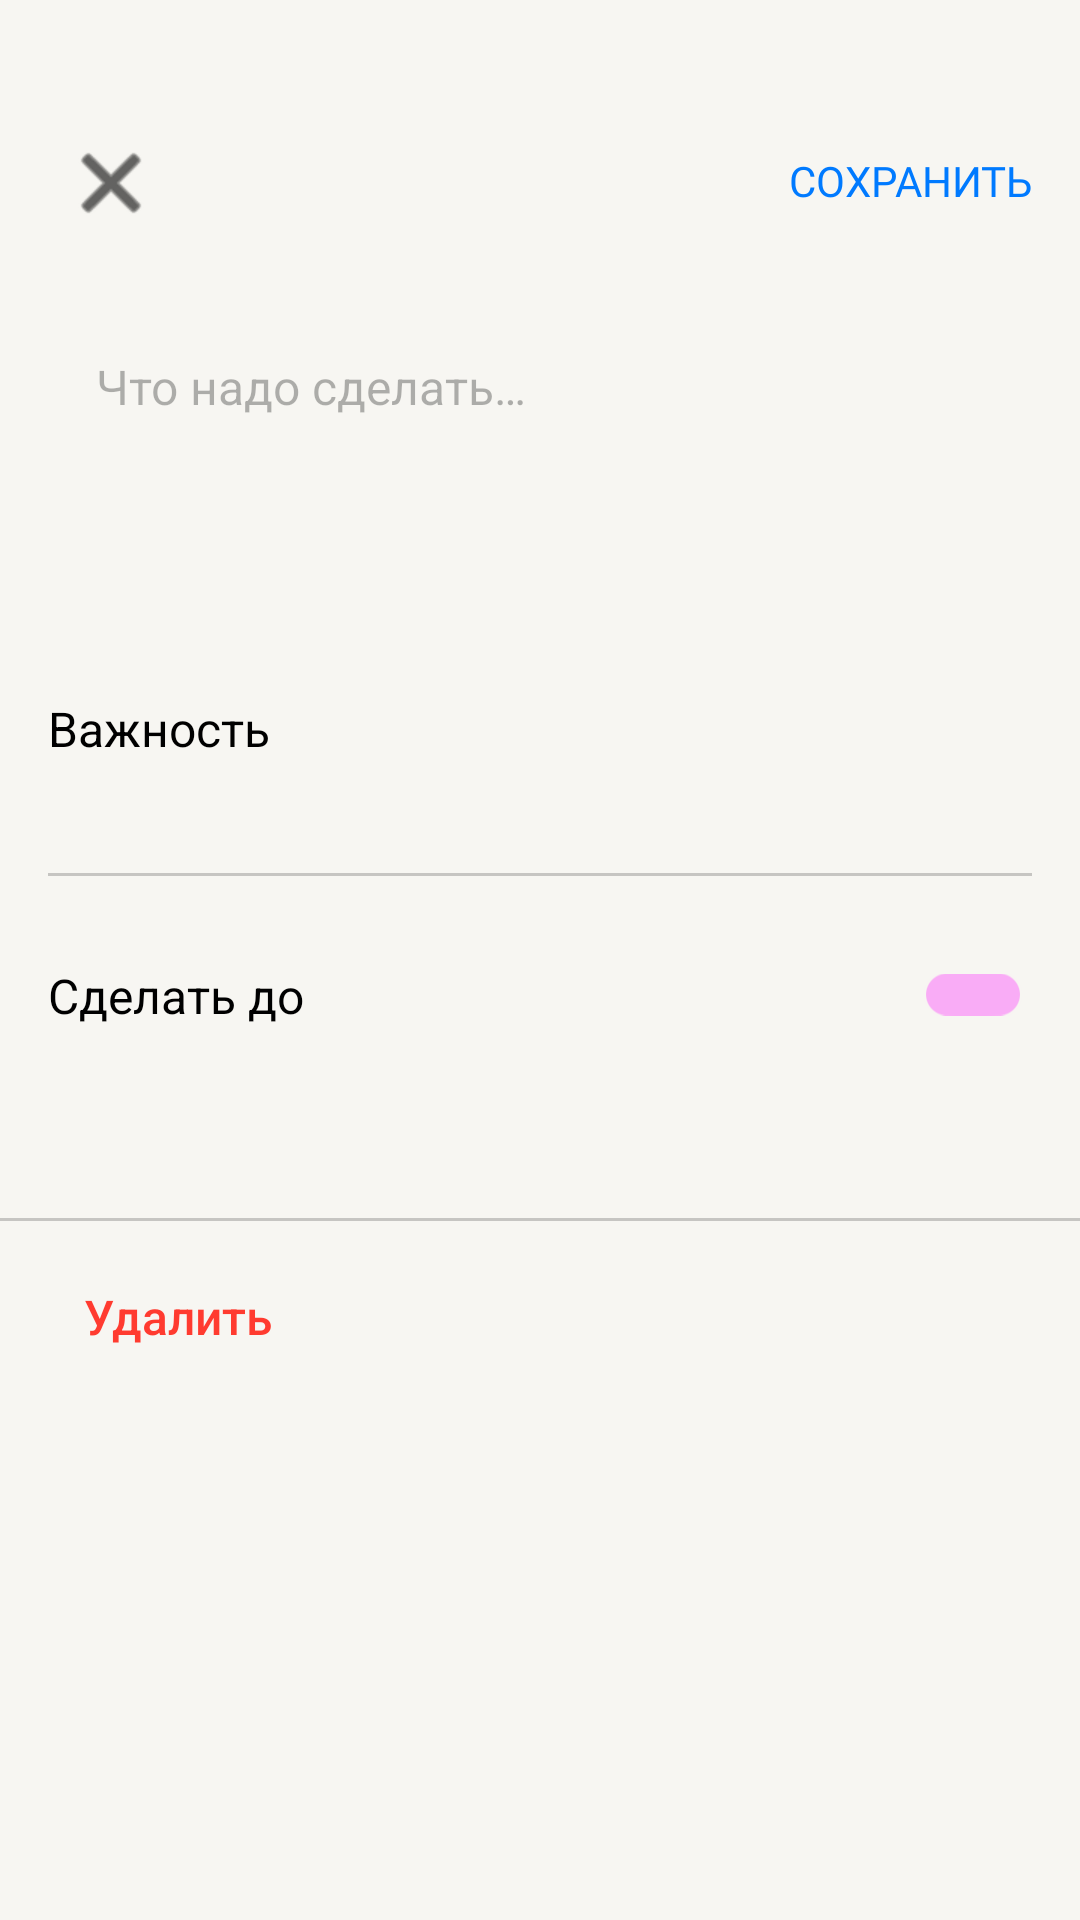

Locate icon controls on the screen. Image size 1080×1920, boxes as (x1, y1, x2, y2).
close clear cancel: (81, 153, 141, 213)
